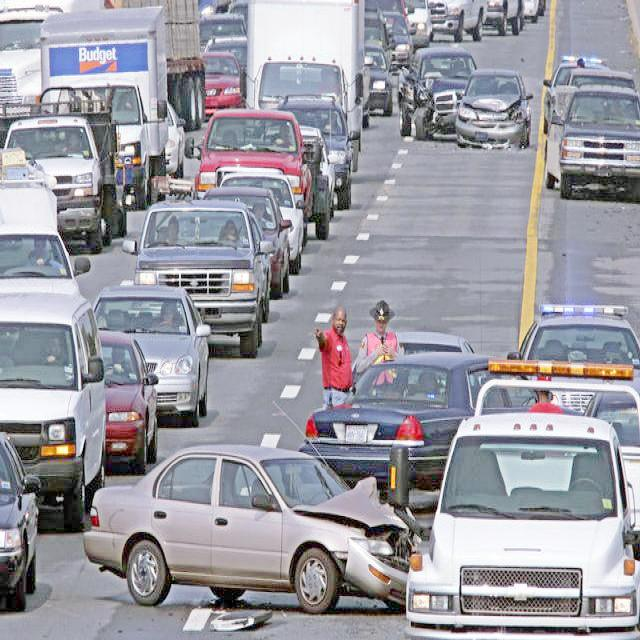Car: (80, 415, 469, 612), (301, 358, 556, 500), (2, 285, 118, 524), (132, 195, 270, 357), (88, 270, 221, 426), (55, 294, 166, 468), (188, 96, 320, 232), (541, 78, 640, 200), (268, 89, 358, 217), (202, 186, 294, 295), (212, 170, 308, 268), (399, 48, 484, 149), (457, 62, 532, 150)
Major Accident: (400, 44, 534, 154)
Minor Accident: (85, 415, 640, 640), (85, 427, 426, 638)
Not Accident: (1, 0, 267, 424), (142, 0, 364, 298), (83, 200, 270, 422), (2, 291, 156, 527), (195, 112, 308, 276), (542, 55, 640, 202)
